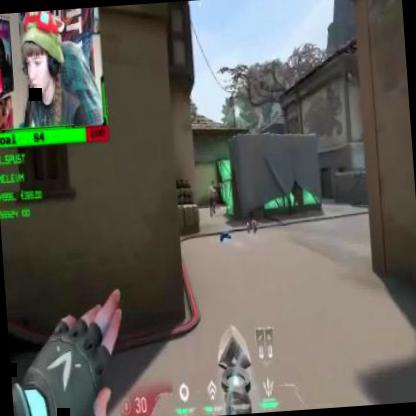enemy: (207, 176, 226, 215)
enemy_head: (211, 180, 215, 188)
